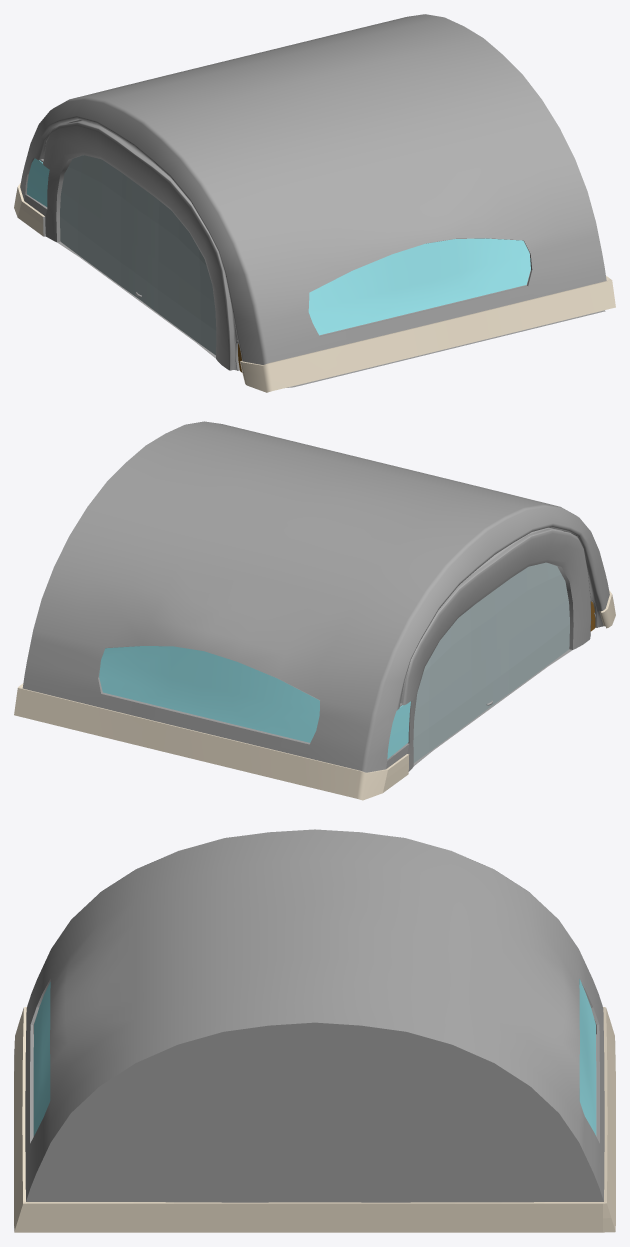
File: Bldg_01.fbx
3 views of the same model, one above another, from view 1: azimuth 30°, elevation 25°; view 2: azimuth 150°, elevation 25°; view 3: azimuth 270°, elevation 25° (orthographic). The views are drawn at different scales.
Visible parts, largest first — view 1: Building4; view 2: Building4; view 3: Building4.
Part boxes in pixels (left/top/right/bottom): Building4: left=14, top=14, right=615, bottom=392; Building4: left=14, top=421, right=615, bottom=800; Building4: left=14, top=829, right=615, bottom=1232.
Size of the model in its own units: 34.47 by 16.68 by 42.98.
